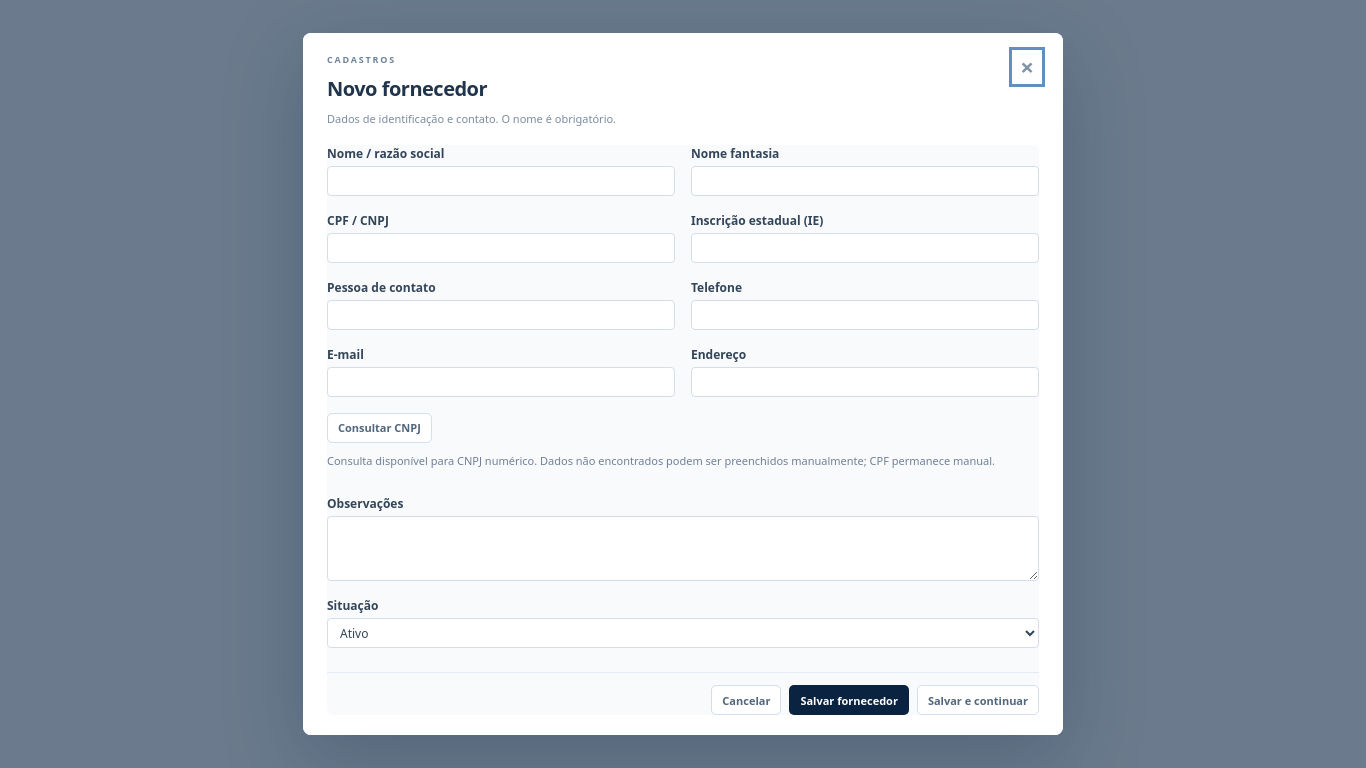
ignores old responses when the document changes during lookup
The width and height of the screenshot is (1366, 768).
Type "19131243000197" into the field labelled "CPF / CNPJ".
click(501, 248); type("19131243000197")  # box [327,233,675,263]
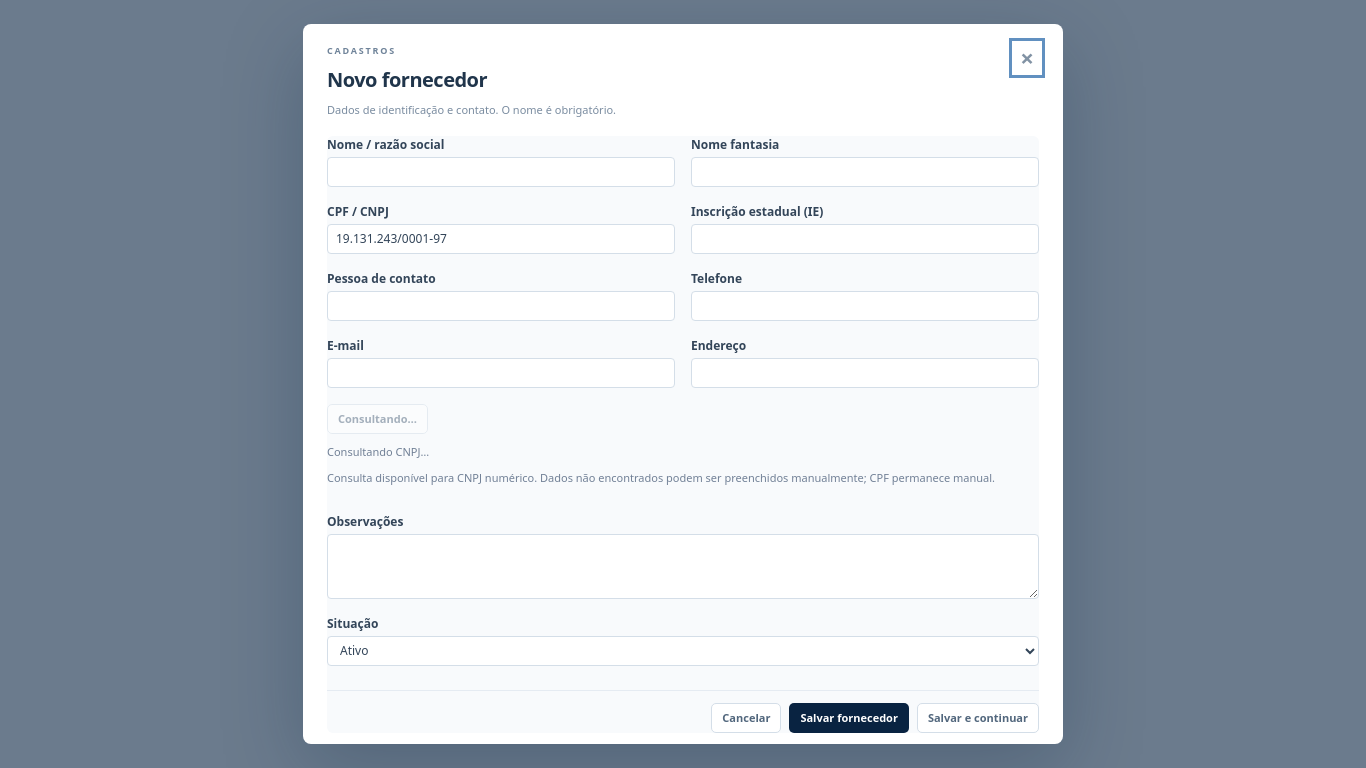
Replace the text in the field labelled "CPF / CNPJ" with "12345678000195" at [501, 239], box [327,224,675,254]
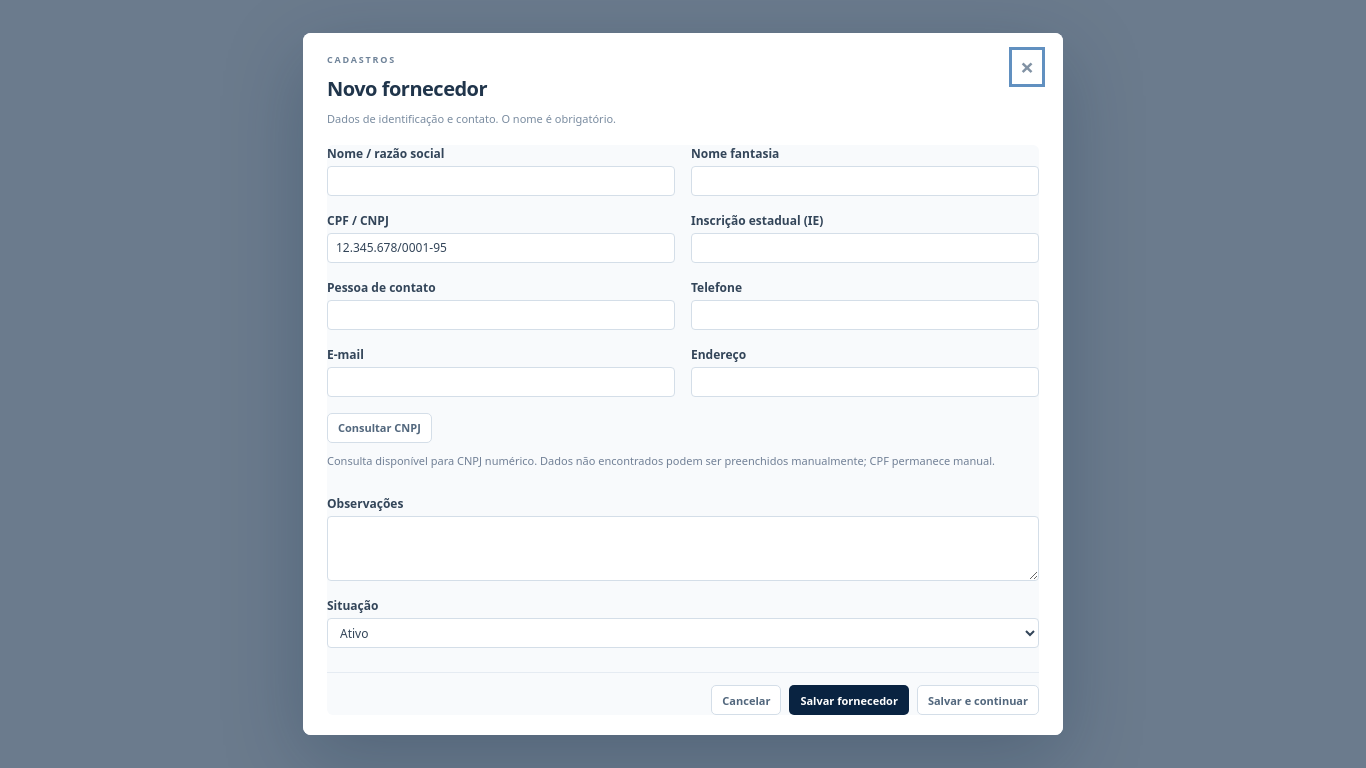
expect the field labelled "Nome / razão social" is empty: met, box [327,166,675,196]
expect the button "Consultar CNPJ" is enabled: met, box [327,413,432,443]
